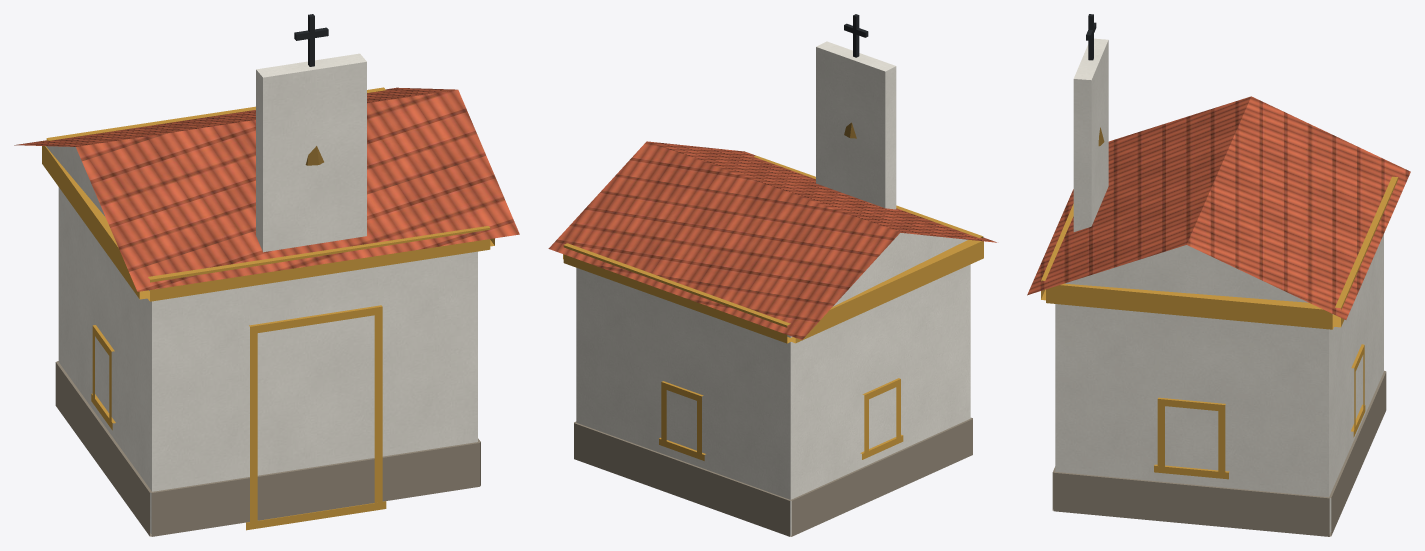
The picture shows the model from 3 angles, left to right: view 1: azimuth 30°, elevation 25°; view 2: azimuth 150°, elevation 25°; view 3: azimuth 270°, elevation 25°; orthographic projection. The views are drawn at different scales.
Parts seen in each view (by area): view 1: B-w1333188073_lejos, B-w1333188073_cubierta, B-w1333188073_molduras, B-w1333188073_remates, B-w1333188073_muros; view 2: B-w1333188073_lejos, B-w1333188073_cubierta, B-w1333188073_molduras, B-w1333188073_muros, B-w1333188073_remates; view 3: B-w1333188073_cubierta, B-w1333188073_lejos, B-w1333188073_molduras, B-w1333188073_muros, B-w1333188073_remates.
Boxes of the visible parts, x1,y1,x2,y2 form: B-w1333188073_lejos: (98,251,477,534); B-w1333188073_cubierta: (14,87,519,291); B-w1333188073_molduras: (42,87,494,536); B-w1333188073_remates: (256,14,366,252); B-w1333188073_muros: (58,187,152,488); B-w1333188073_lejos: (576,264,970,535); B-w1333188073_cubierta: (548,141,996,339); B-w1333188073_molduras: (563,155,983,536); B-w1333188073_muros: (790,281,970,535); B-w1333188073_remates: (816,14,896,209); B-w1333188073_cubierta: (1027,96,1410,319); B-w1333188073_lejos: (1055,234,1383,533); B-w1333188073_molduras: (1041,176,1398,536); B-w1333188073_muros: (1055,308,1328,497); B-w1333188073_remates: (1073,14,1108,231).
Bounding box in the file's own units: 6.75 × 7.96 × 6.31.
Materials: 4 (4 with a texture image).
